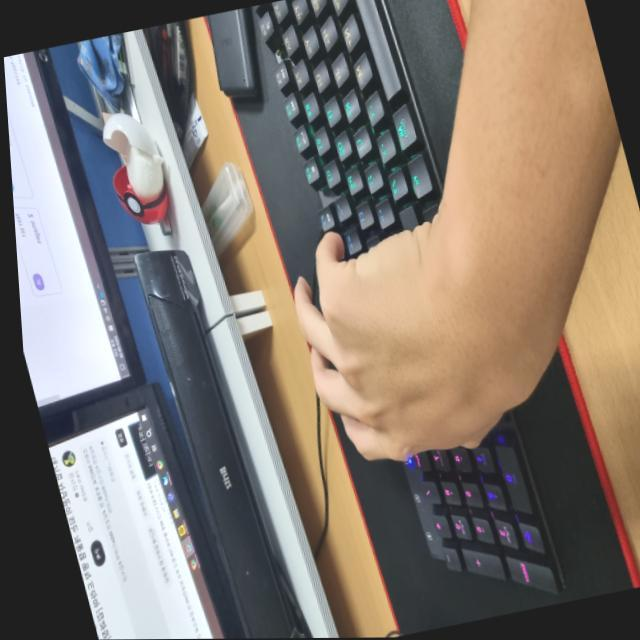keyboard-with-hands: (252, 0, 561, 594)
